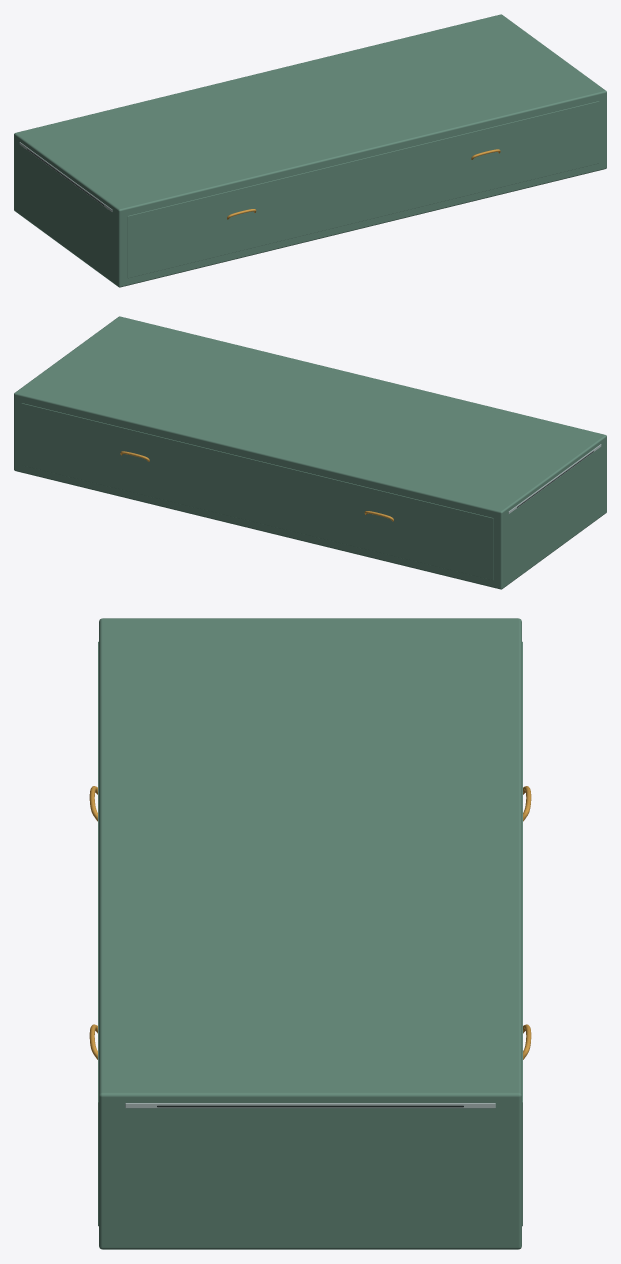
Rendered from drawer-one-base.glb.
3 views of the same model, one above another, from view 1: azimuth 30°, elevation 25°; view 2: azimuth 150°, elevation 25°; view 3: azimuth 270°, elevation 25° (orthographic). The views are drawn at different scales.
Visible parts, largest first — view 1: sage; view 2: sage; view 3: sage, steel, dark, brass.
Boxes of the visible parts, box(x1,y1,x2,y2) form: sage: box(14, 14, 606, 287); sage: box(14, 316, 606, 589); sage: box(98, 618, 522, 1249); steel: box(125, 1103, 495, 1108); dark: box(157, 1105, 463, 1107); brass: box(89, 786, 531, 1059).
Size of the model in its own units: 32.09 by 4.9 by 12.52.
